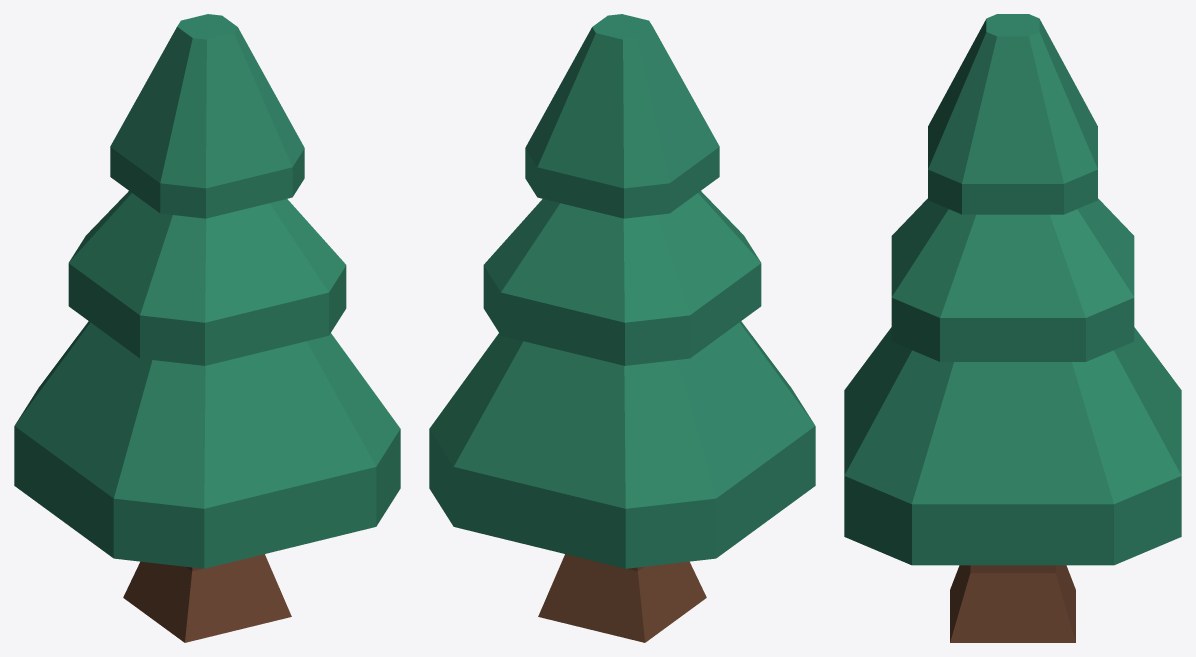
File: pine_small.glb
The picture shows the model from 3 angles, left to right: view 1: azimuth 30°, elevation 25°; view 2: azimuth 150°, elevation 25°; view 3: azimuth 270°, elevation 25°; orthographic projection.
Parts seen in each view (by area): view 1: tree_pineSmallA; view 2: tree_pineSmallA; view 3: tree_pineSmallA.
Part boxes in pixels (x1,y1,x2,y2): tree_pineSmallA: (14,14,400,642); tree_pineSmallA: (429,14,815,642); tree_pineSmallA: (844,14,1181,642).
Size of the model in its own units: 0.8 by 1.55 by 0.8.
